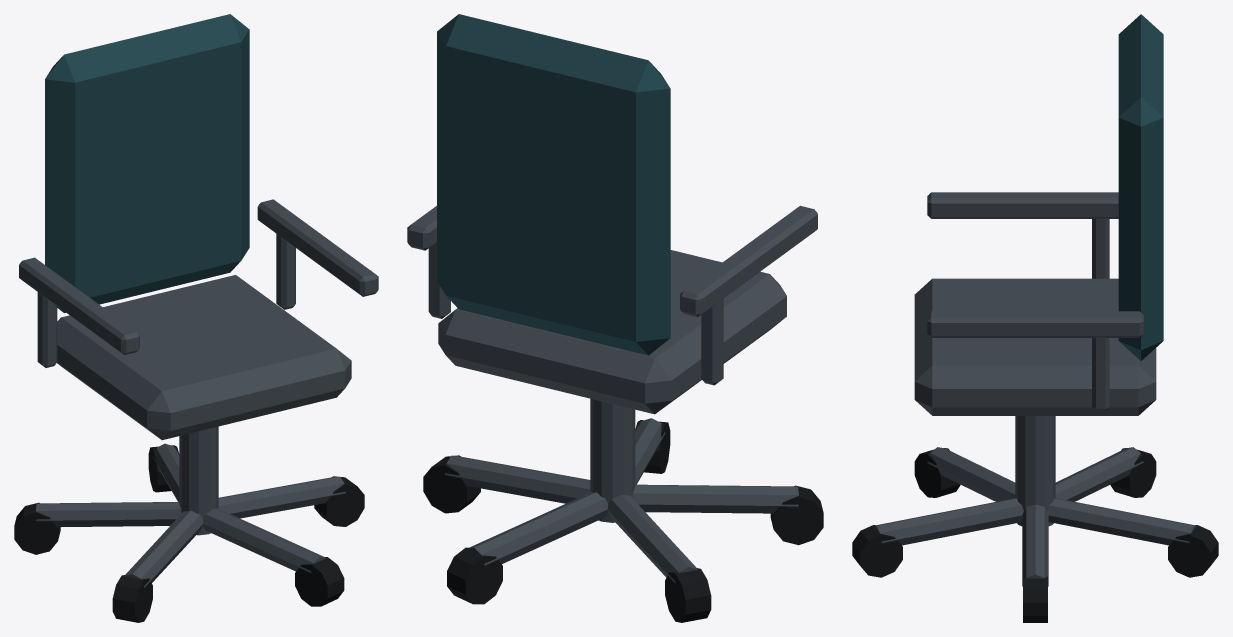
Rendered from TaskChairTeal.fbx.
3 renders of one model, left to right at view 1: azimuth 30°, elevation 25°; view 2: azimuth 150°, elevation 25°; view 3: azimuth 270°, elevation 25°, orthographic. The views are drawn at different scales.
Visible parts, largest first — view 1: TaskChairTeal; view 2: TaskChairTeal; view 3: TaskChairTeal.
Part boxes in pixels (x1,y1,x2,y2): TaskChairTeal: (14,14,378,622); TaskChairTeal: (407,14,823,622); TaskChairTeal: (852,14,1218,622).
Bounding box in the file's own units: 69.25 × 109 × 72.82.
Materials: 1 (1 with a texture image).
